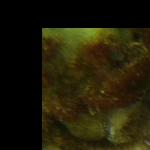dead: (42, 29, 148, 146)
